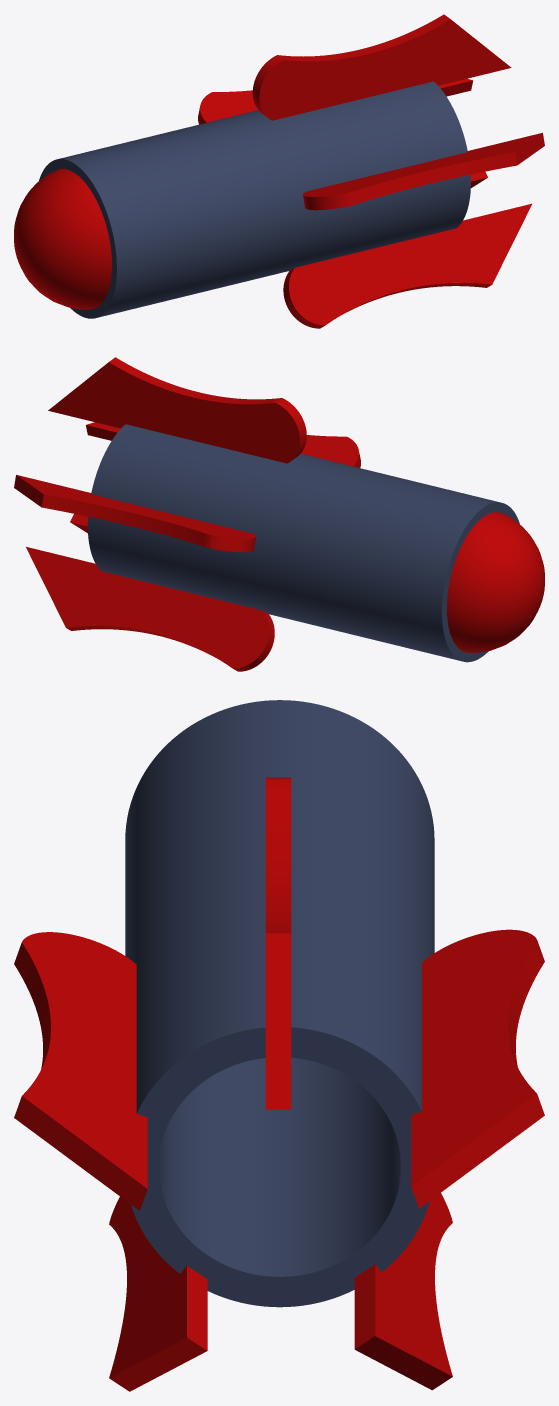
File: ENG.FBX
3 views of the same model, one above another, from view 1: azimuth 30°, elevation 25°; view 2: azimuth 150°, elevation 25°; view 3: azimuth 270°, elevation 25° (orthographic). The views are drawn at different scales.
Visible parts, largest first — view 1: 1:1:1, 6:1:2D, 3:1:2D, 2:1:2D, 7:1:2D, 4:1:2D; view 2: 1:1:1, 5:1:2D, 3:1:2D, 2:1:2D, 4:1:2D, 7:1:2D; view 3: 1:1:1, 4:1:2D, 7:1:2D, 5:1:2D, 6:1:2D, 3:1:2D.
Part boxes in pixels (bbox=[...]): 1:1:1: bbox=[39, 81, 470, 318]; 6:1:2D: bbox=[283, 203, 531, 328]; 3:1:2D: bbox=[252, 14, 511, 120]; 2:1:2D: bbox=[14, 168, 111, 309]; 7:1:2D: bbox=[303, 132, 544, 210]; 4:1:2D: bbox=[198, 78, 473, 124]; 1:1:1: bbox=[87, 424, 519, 662]; 5:1:2D: bbox=[26, 547, 274, 671]; 3:1:2D: bbox=[48, 357, 306, 463]; 2:1:2D: bbox=[447, 512, 544, 652]; 4:1:2D: bbox=[14, 475, 255, 552]; 7:1:2D: bbox=[86, 422, 360, 467]; 1:1:1: bbox=[125, 700, 434, 1307]; 4:1:2D: bbox=[411, 929, 544, 1208]; 7:1:2D: bbox=[14, 932, 147, 1210]; 5:1:2D: bbox=[354, 1193, 452, 1390]; 6:1:2D: bbox=[109, 1196, 207, 1391]; 3:1:2D: bbox=[265, 777, 291, 1109].
Size of the model in its own units: 808 by 386 by 406.
